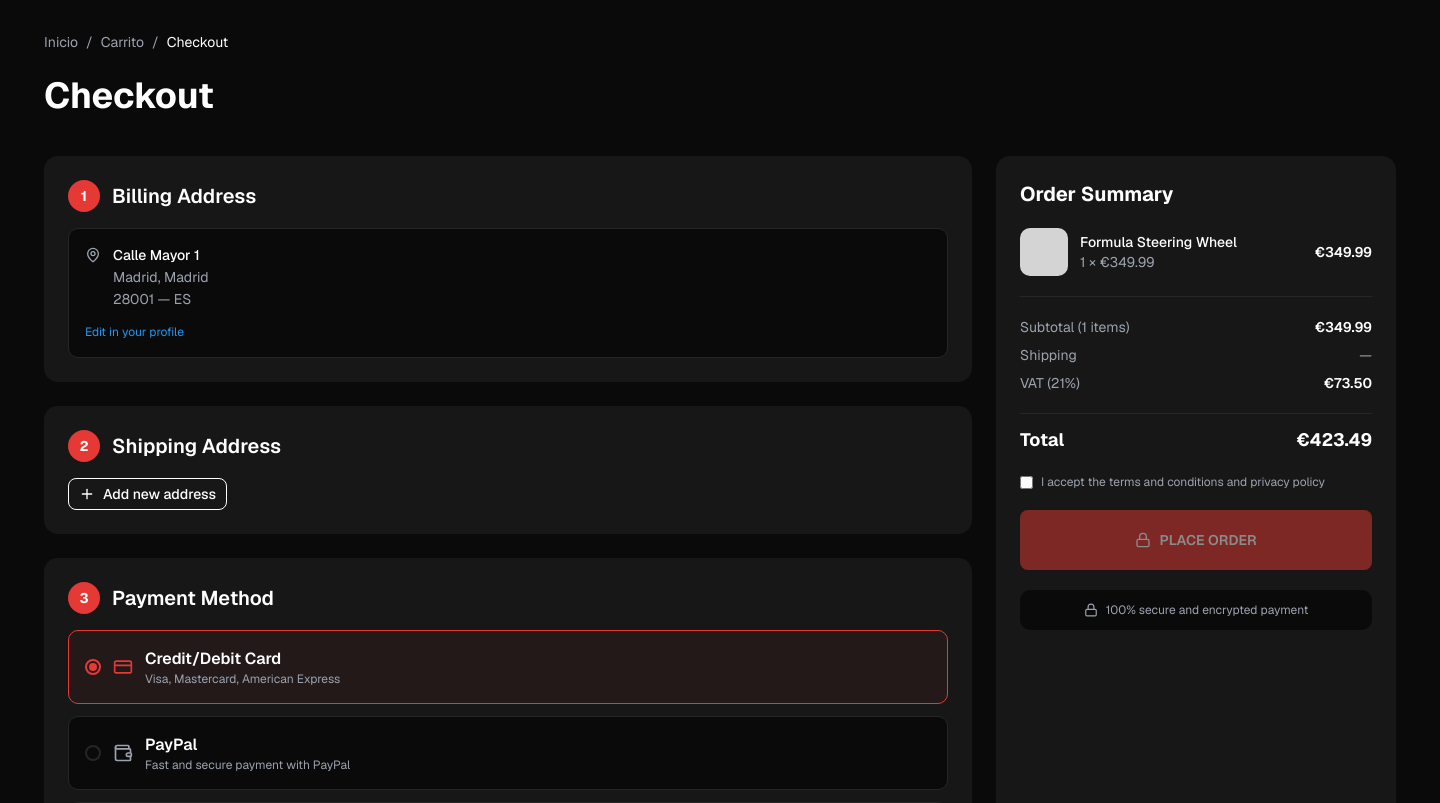
Scenario: CheckoutContent › placing order › shows selectDeliveryFirst error when no delivery address is selected
The image size is (1440, 803).
Expected: the button "PLACE ORDER" is shown, left=1020, top=510, right=1372, bottom=570
Click the checkbox: point(1026, 482) left=1020, top=476, right=1033, bottom=489
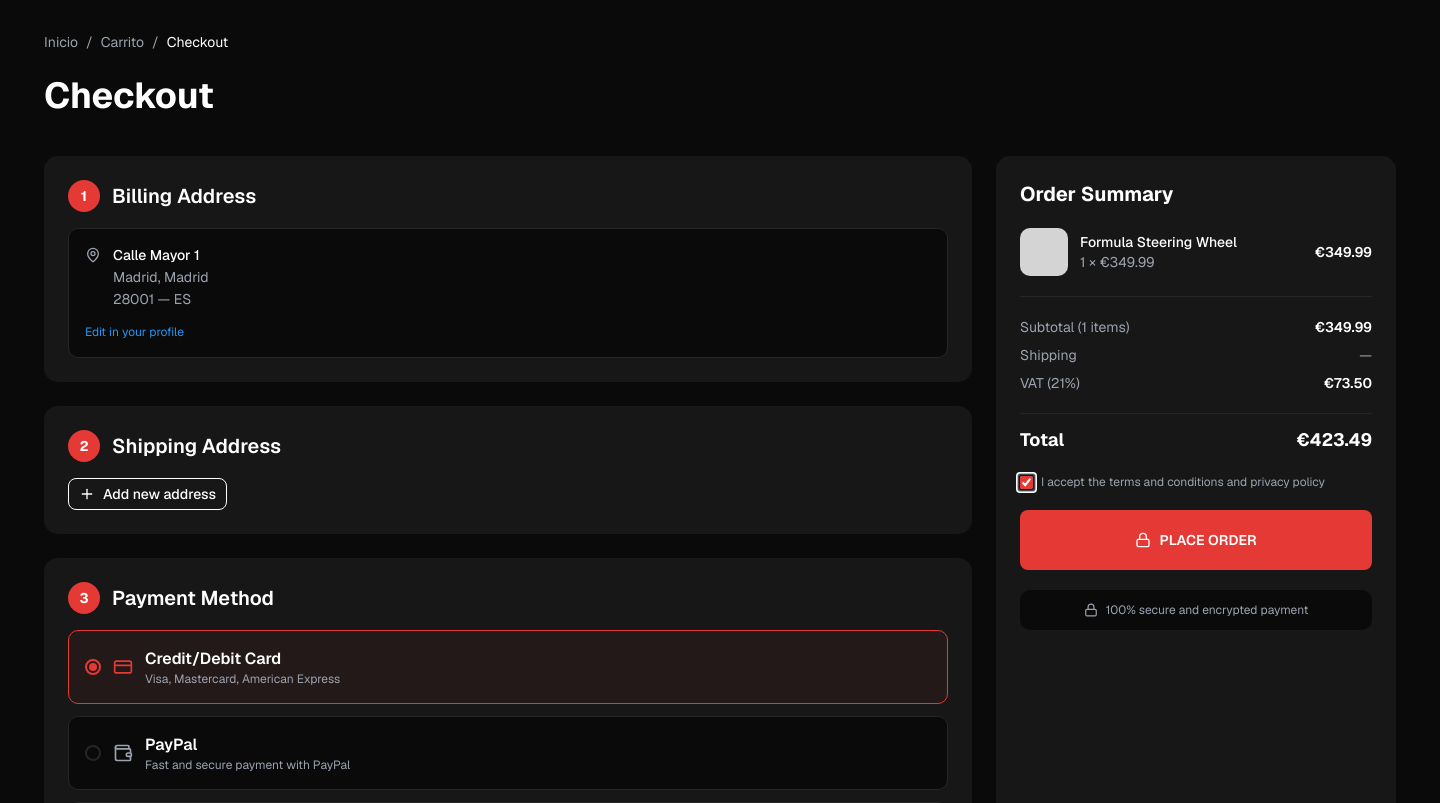
Click the button "PLACE ORDER": point(1196, 540) left=1020, top=510, right=1372, bottom=570
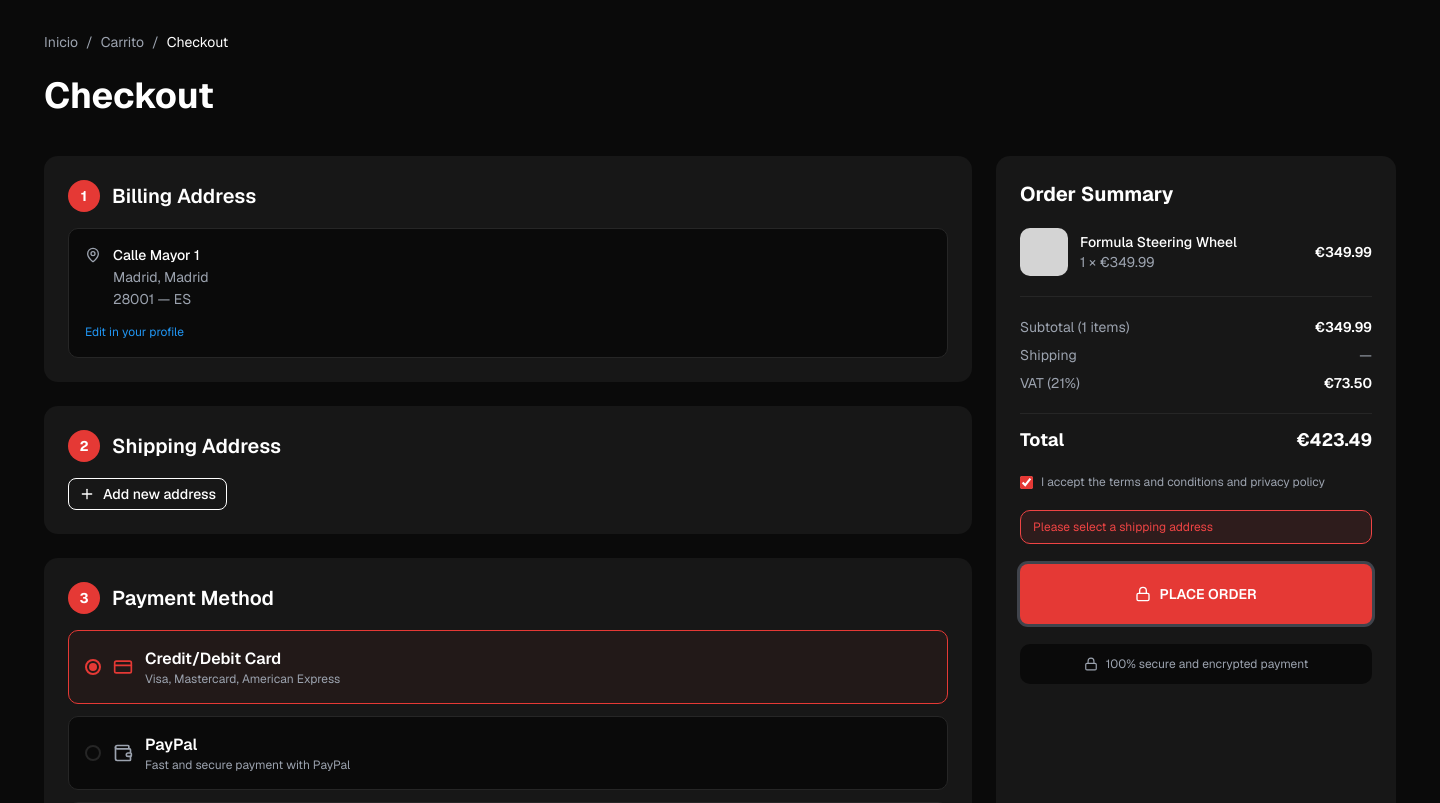
Now the text "Please select a shipping address" is shown, box left=1020, top=510, right=1372, bottom=544
